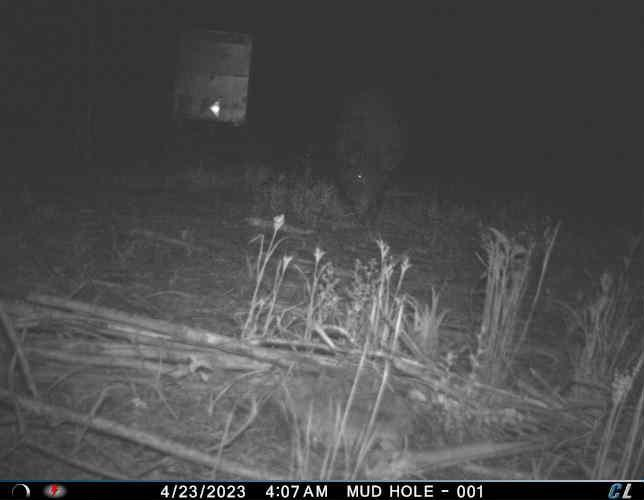Hog: (325, 79, 416, 224)
